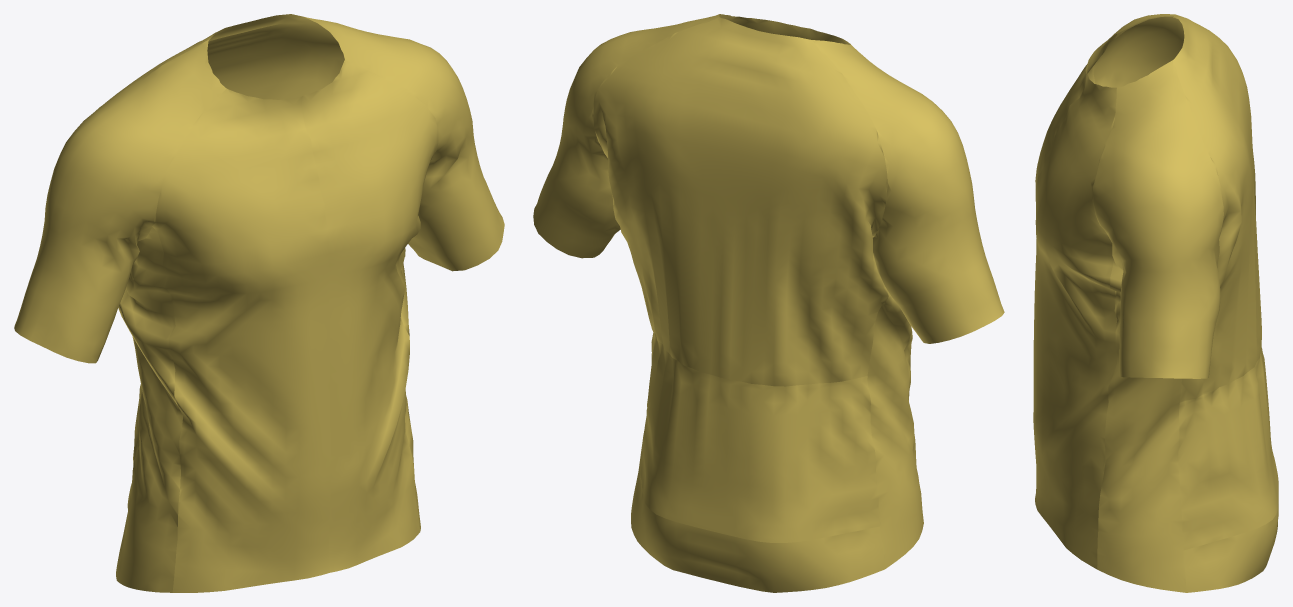
The model's file is new-yellow.dae.
3 renders of one model, left to right at view 1: azimuth 30°, elevation 25°; view 2: azimuth 150°, elevation 25°; view 3: azimuth 270°, elevation 25°, orthographic. The views are drawn at different scales.
Visible parts, largest first — view 1: Collar4_3, Collar3_4, Collar8_2, Collar9_1, Collar10_6, Collar5_11, Collar11_7; view 2: Collar5_0, Collar7_5, Collar8_2, Collar6_8, Collar9_1, Collar10_6, Collar3_15; view 3: Collar3_4, Collar9_1, Collar11_7, Collar5_0, Collar7_5, Collar8_2, Collar6_8, Collar4_3.
Boxes of the visible parts, x1,y1,x2,y2 form: Collar4_3: [152, 88, 330, 592]; Collar3_4: [302, 60, 438, 572]; Collar8_2: [14, 40, 226, 363]; Collar9_1: [305, 17, 504, 271]; Collar10_6: [117, 227, 182, 592]; Collar5_11: [207, 15, 344, 99]; Collar11_7: [400, 248, 420, 531]; Collar5_0: [592, 17, 888, 386]; Collar7_5: [639, 331, 879, 542]; Collar8_2: [811, 40, 1004, 343]; Collar6_8: [631, 468, 884, 592]; Collar9_1: [533, 14, 736, 258]; Collar10_6: [867, 288, 923, 568]; Collar3_15: [731, 17, 809, 39]; Collar3_4: [1033, 71, 1117, 569]; Collar9_1: [1092, 60, 1223, 378]; Collar11_7: [1097, 259, 1186, 592]; Collar5_0: [1173, 16, 1261, 402]; Collar7_5: [1178, 347, 1278, 550]; Collar8_2: [1093, 14, 1190, 87]; Collar6_8: [1183, 477, 1278, 592]; Collar4_3: [1033, 34, 1116, 494].
Bounding box in the file's own units: 63.01 × 29.53 × 67.78.
